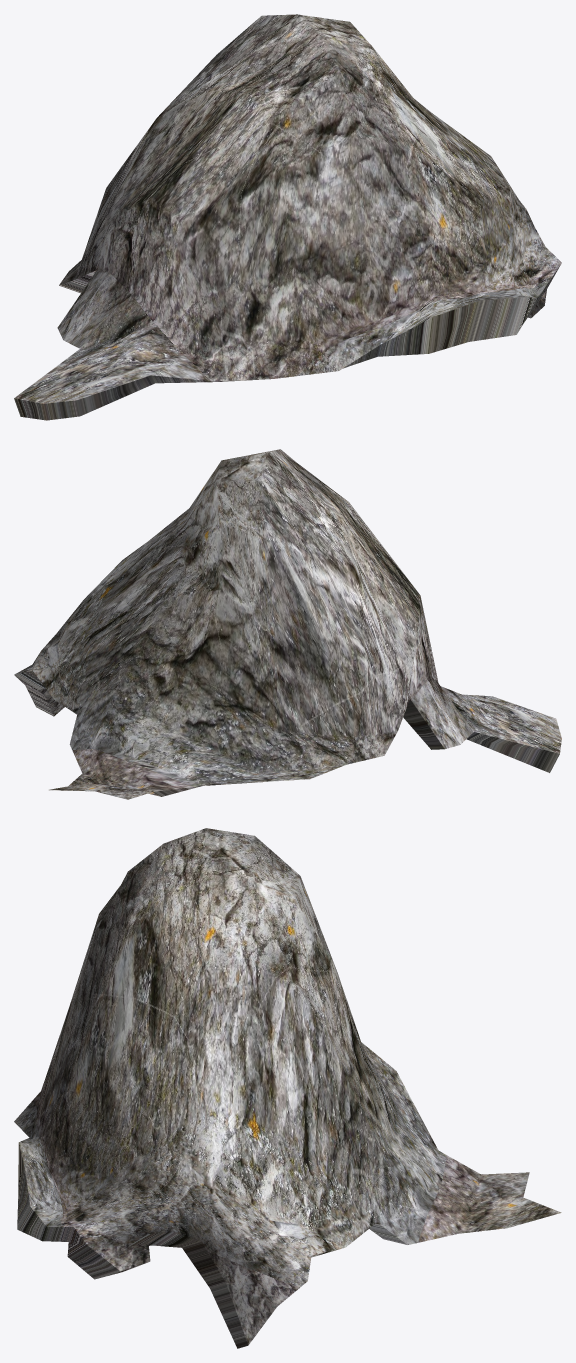
Rendered from rock 2.fbx.
3 views of the same model, one above another, from view 1: azimuth 30°, elevation 25°; view 2: azimuth 150°, elevation 25°; view 3: azimuth 270°, elevation 25° (orthographic). The views are drawn at different scales.
Visible parts, largest first — view 1: shard4; view 2: shard4; view 3: shard4.
Part boxes in pixels (box(x1,y1,x2,y2)): shard4: box(14, 14, 561, 420); shard4: box(14, 449, 561, 799); shard4: box(14, 828, 561, 1348).
Size of the model in its own units: 9.32 by 5.59 by 7.06.
Materials: 1 (1 with a texture image).
